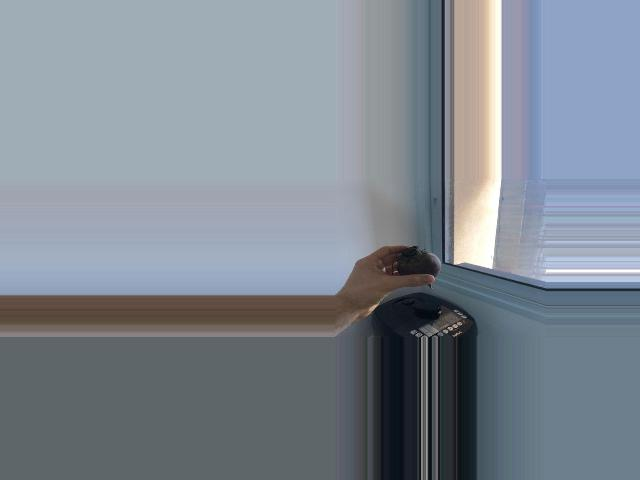beet: (392, 246, 441, 289)
